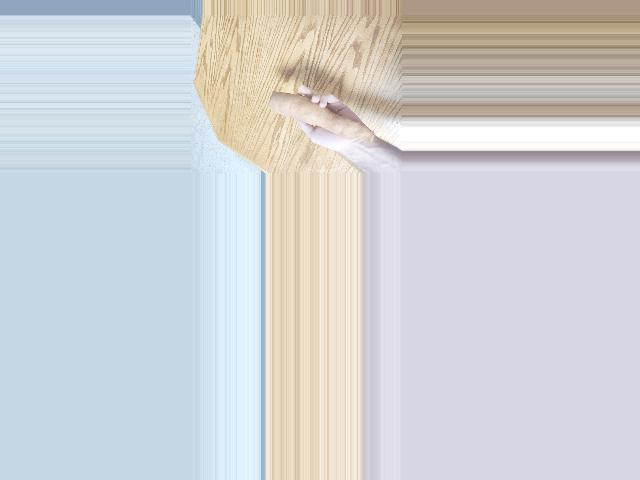sweet_potato: (268, 89, 378, 144)
